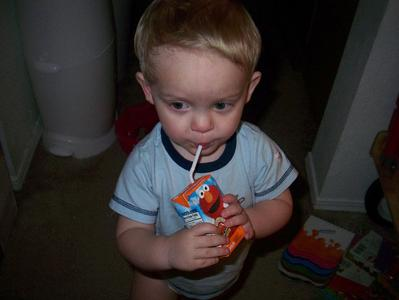person: (108, 2, 295, 300)
